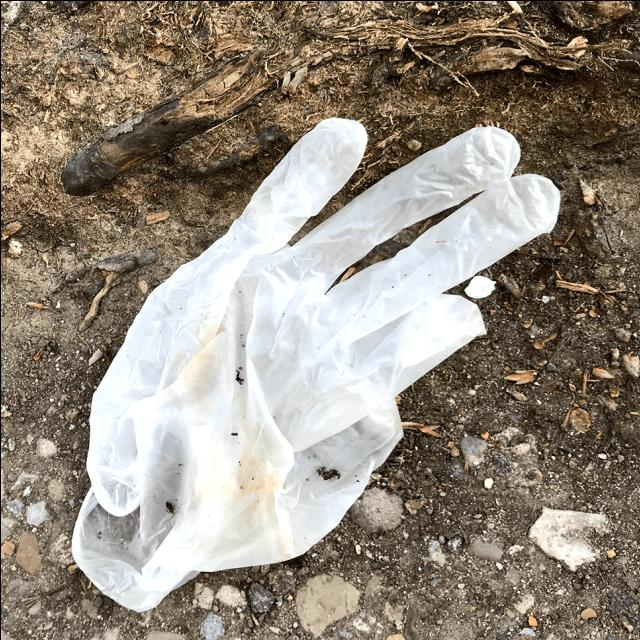b3: (52, 79, 566, 605)
